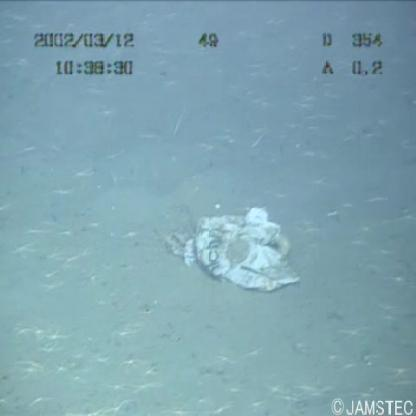Rác: (152, 190, 313, 302)
